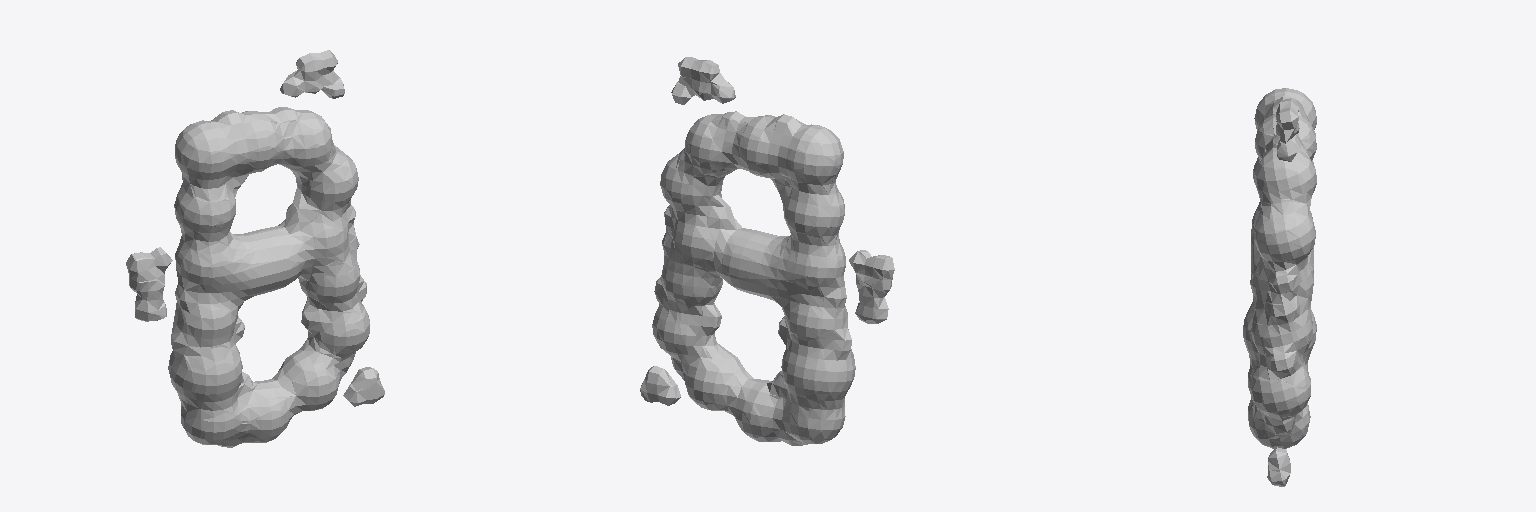
File: bcloud.obj
The picture shows the model from 3 angles: view 1: azimuth 30°, elevation 25°; view 2: azimuth 150°, elevation 25°; view 3: azimuth 270°, elevation 25°; orthographic projection.
Parts seen in each view (by area): view 1: Mball; view 2: Mball; view 3: Mball.
Part boxes in pixels (x1,y1,x2,y2): Mball: (126, 50, 384, 447); Mball: (640, 57, 894, 445); Mball: (1243, 88, 1316, 486).
Bounding box in the file's own units: 10.73 × 14.91 × 2.73.